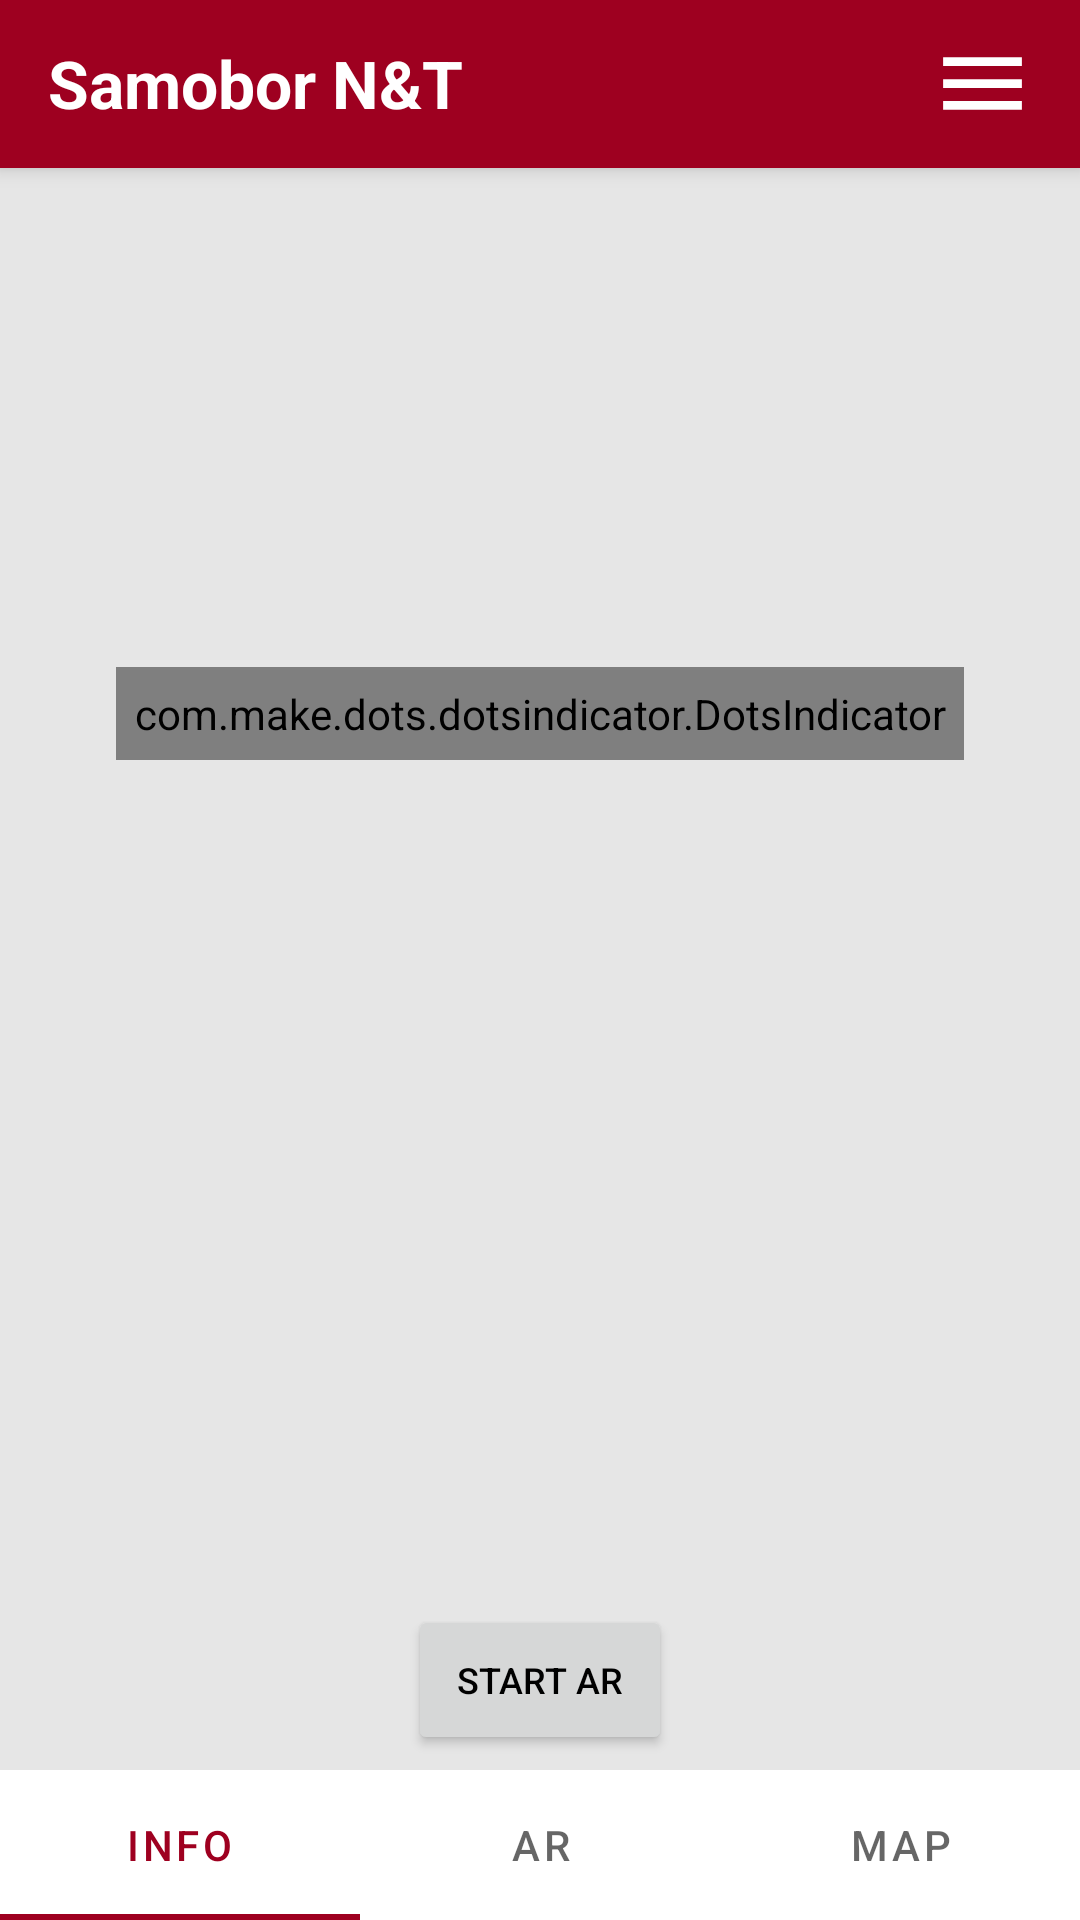

Named icons in this screenshot (1080*1920) and their centers, [x,y]:
menu: [982,83]
